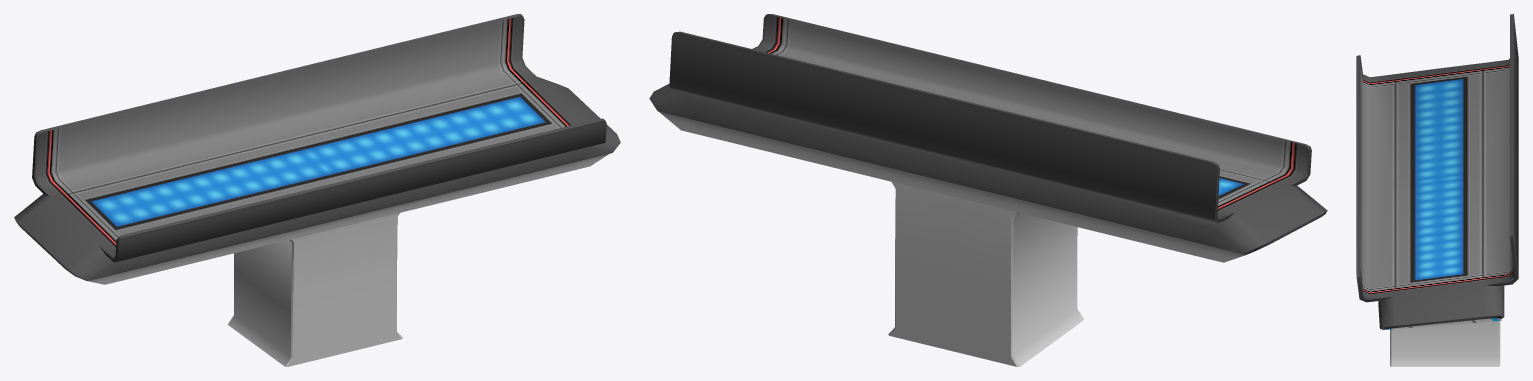
The model's file is ButtonShelf.fbx.
3 views of the same model, side by side, from view 1: azimuth 30°, elevation 25°; view 2: azimuth 150°, elevation 25°; view 3: azimuth 270°, elevation 25° (orthographic). The views are drawn at different scales.
Visible parts, largest first — view 1: ButtonShelf; view 2: ButtonShelf; view 3: ButtonShelf.
Part boxes in pixels (box(x1,y1,x2,y2)): ButtonShelf: box(14, 14, 620, 366); ButtonShelf: box(649, 14, 1327, 366); ButtonShelf: box(1356, 14, 1518, 366).
Size of the model in its own units: 297 by 120 by 81.27.
Materials: 1 (1 with a texture image).
